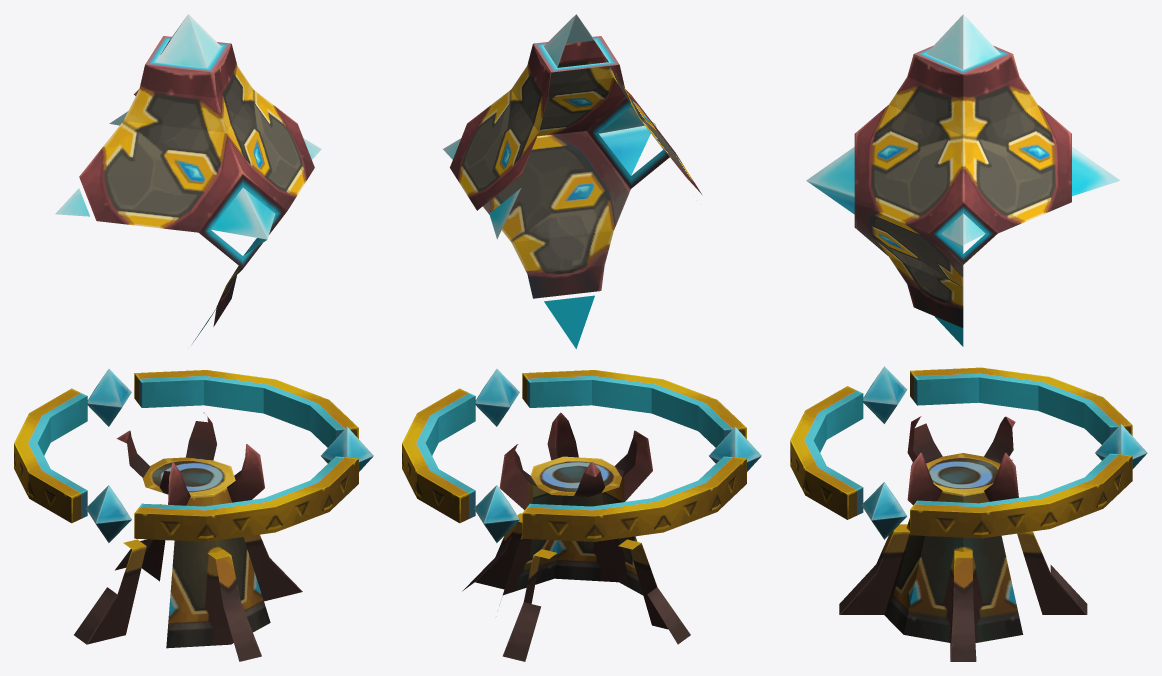
Rendered from B_Magiccore05.fbx.
3 renders of one model, left to right at view 1: azimuth 30°, elevation 25°; view 2: azimuth 150°, elevation 25°; view 3: azimuth 270°, elevation 25°, orthographic.
Parts seen in each view (by area): view 1: B_Magiccore05_03, B_Magiccore05_02, B_Magiccore05_01; view 2: B_Magiccore05_03, B_Magiccore05_02, B_Magiccore05_01; view 3: B_Magiccore05_03, B_Magiccore05_02, B_Magiccore05_01.
Part boxes in pixels (bbox=[...]): B_Magiccore05_03: bbox=[55, 14, 321, 343]; B_Magiccore05_02: bbox=[14, 369, 373, 542]; B_Magiccore05_01: bbox=[74, 412, 302, 661]; B_Magiccore05_03: bbox=[443, 14, 701, 348]; B_Magiccore05_02: bbox=[402, 369, 761, 542]; B_Magiccore05_01: bbox=[462, 412, 690, 661]; B_Magiccore05_03: bbox=[806, 14, 1120, 346]; B_Magiccore05_02: bbox=[790, 366, 1147, 539]; B_Magiccore05_01: bbox=[839, 416, 1087, 661].
Bounding box in the file's own units: 4.85 × 9.24 × 5.03.
Materials: 1 (1 with a texture image).
